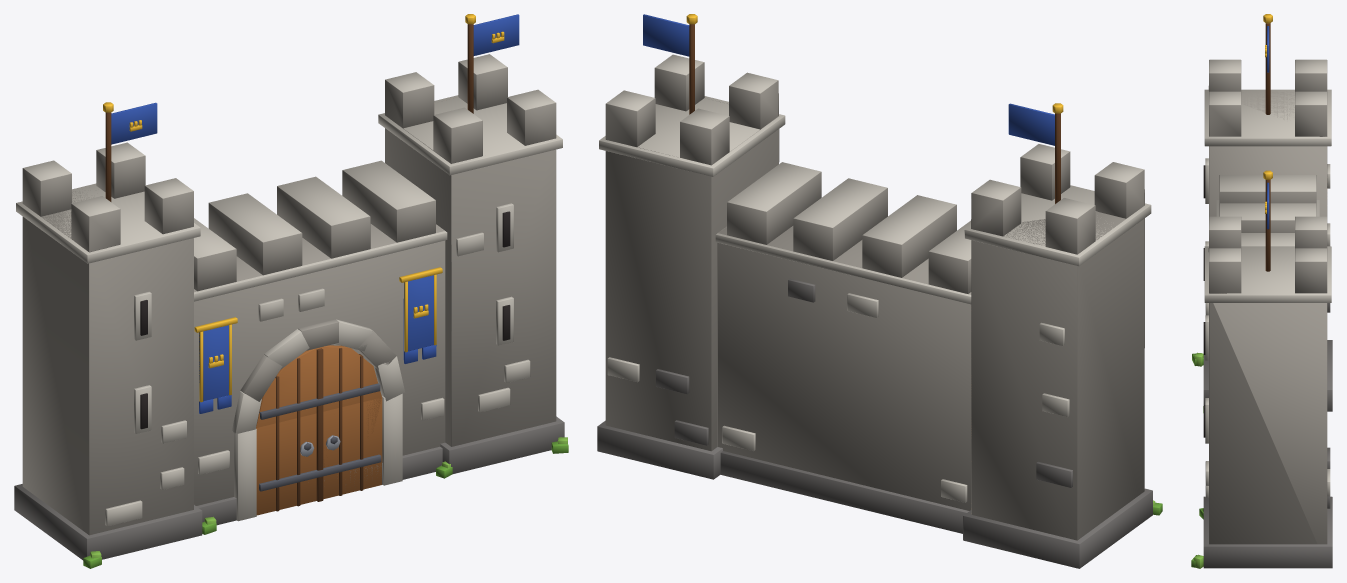
The model's file is B_MedMainGate.fbx.
The picture shows the model from 3 angles, left to right: view 1: azimuth 30°, elevation 25°; view 2: azimuth 150°, elevation 25°; view 3: azimuth 270°, elevation 25°; orthographic projection. The views are drawn at different scales.
Visible parts, largest first — view 1: M_MainGate; view 2: M_MainGate; view 3: M_MainGate.
Boxes of the visible parts, x1,y1,x2,y2 form: M_MainGate: [14, 14, 568, 568]; M_MainGate: [597, 14, 1162, 568]; M_MainGate: [1191, 14, 1332, 568].
Bounding box in the file's own units: 9.22 × 7.62 × 2.63.
1 material, 1 textured.
